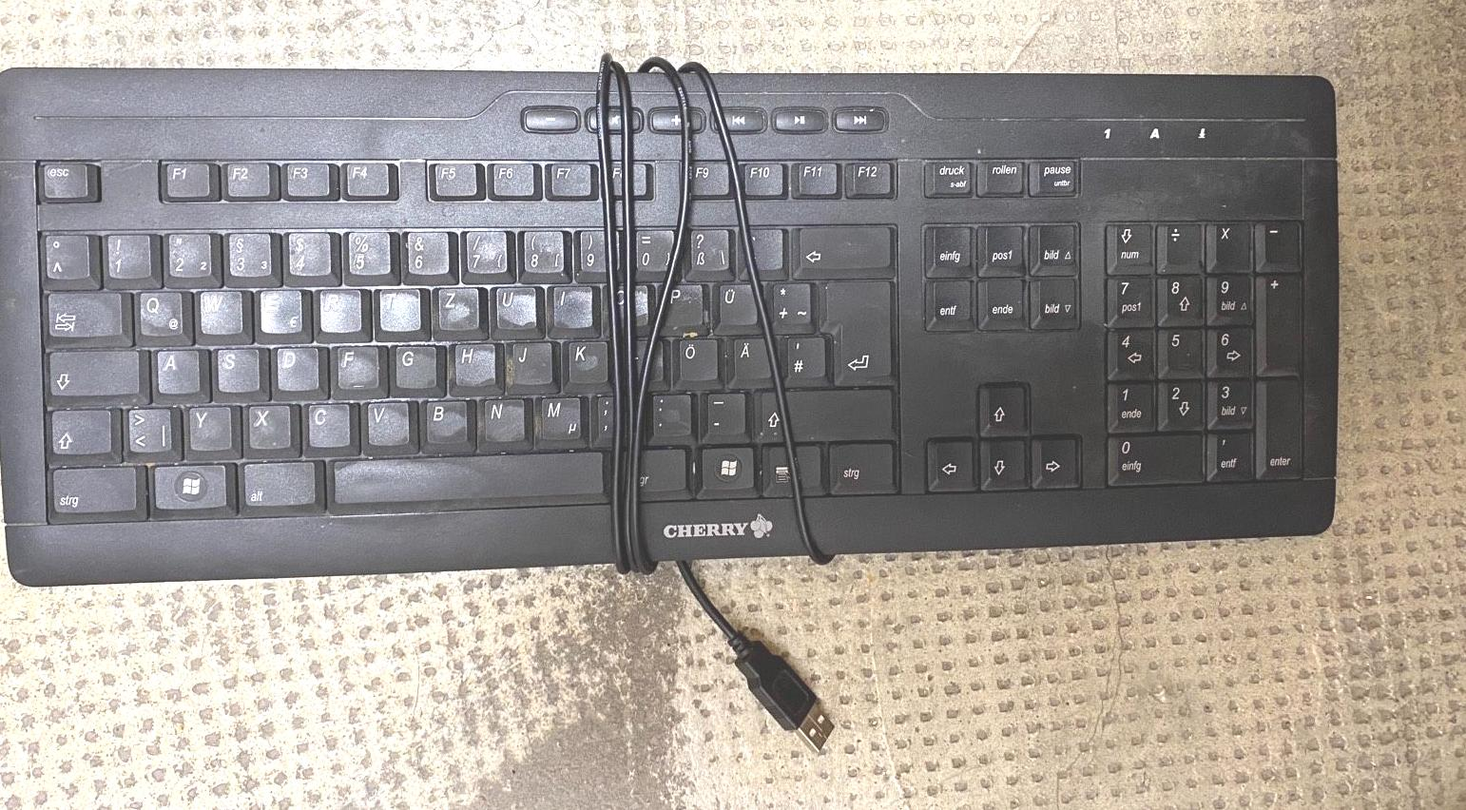0: (631, 225, 679, 277)
1: (103, 230, 152, 280)
2: (164, 228, 213, 280)
3: (223, 228, 274, 280)
4: (283, 228, 333, 276)
5: (347, 230, 395, 281)
6: (406, 230, 453, 281)
7: (462, 225, 510, 275)
8: (522, 229, 569, 280)
9: (576, 226, 624, 278)
a: (152, 346, 200, 395)
accent: (748, 224, 788, 276)
ae: (728, 334, 770, 383)
alt-left: (238, 460, 323, 512)
altgr-right: (637, 445, 686, 495)
b: (421, 395, 468, 444)
c: (304, 399, 351, 448)
caret: (40, 230, 96, 284)
comma: (589, 390, 615, 444)
d: (273, 342, 319, 391)
del: (794, 222, 892, 272)
e: (256, 285, 302, 334)
enter: (819, 273, 892, 383)
f: (333, 341, 379, 389)
g: (391, 341, 436, 390)
h: (450, 340, 495, 385)
hash: (781, 334, 829, 384)
i: (550, 282, 598, 335)
j: (506, 338, 553, 386)
k: (565, 337, 608, 382)
keyboard: (1, 67, 1341, 591)
less: (124, 404, 173, 454)
m: (533, 394, 581, 441)
minus: (702, 389, 744, 438)
n: (479, 395, 525, 441)
oe: (671, 336, 717, 382)
p: (656, 280, 704, 330)
plus: (764, 278, 811, 330)
point: (647, 390, 692, 441)
q: (133, 287, 183, 337)
r: (316, 286, 362, 333)
s: (213, 344, 260, 394)
shift-left: (48, 406, 110, 454)
shift-lock: (46, 346, 139, 395)
shift-right: (753, 389, 893, 443)
space: (330, 450, 610, 510)
ss: (687, 227, 735, 279)
strg-left: (46, 462, 140, 514)
strg-right: (827, 442, 895, 493)
t: (376, 285, 421, 331)
tab: (44, 288, 121, 337)
u: (492, 284, 541, 334)
ue: (713, 280, 758, 326)
v: (363, 397, 410, 446)
w: (196, 286, 242, 335)
x: (245, 401, 291, 449)
y: (185, 402, 231, 451)
z: (433, 286, 484, 335)
